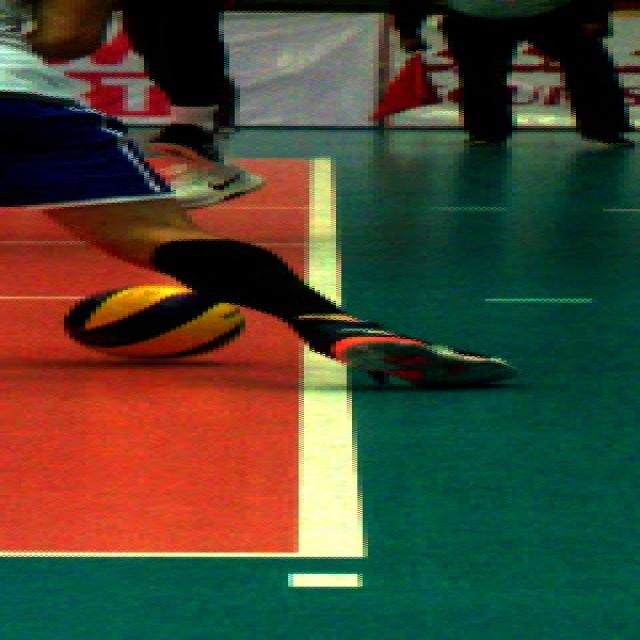Volleyball: (68, 281, 245, 357)
